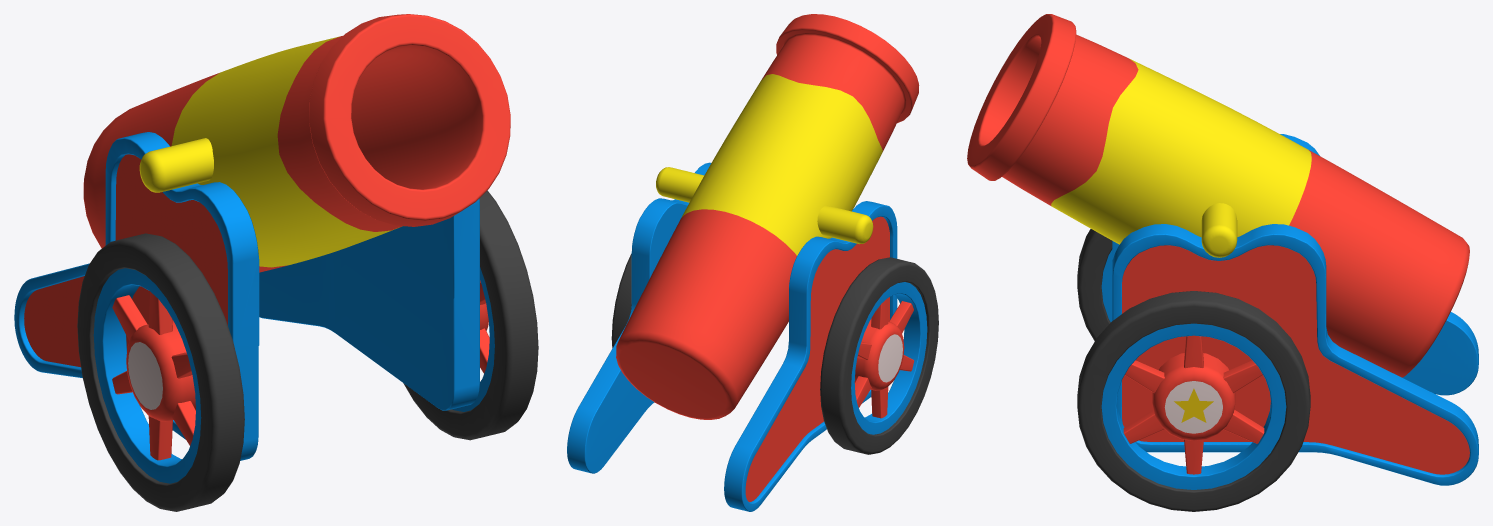
File: Public_14_Cannon_1.glb
3 renders of one model, left to right at view 1: azimuth 30°, elevation 25°; view 2: azimuth 150°, elevation 25°; view 3: azimuth 270°, elevation 25°, orthographic. The views are drawn at different scales.
Parts seen in each view (by area): view 1: Public_14_Cannon_1; view 2: Public_14_Cannon_1; view 3: Public_14_Cannon_1.
Boxes of the visible parts, x1=… form: Public_14_Cannon_1: x1=14, y1=14, x2=538, y2=511; Public_14_Cannon_1: x1=567, y1=14, x2=938, y2=511; Public_14_Cannon_1: x1=967, y1=14, x2=1478, y2=511.
Size of the model in its own units: 1.24 by 1.84 by 2.01.
Materials: 1 (1 with a texture image).
